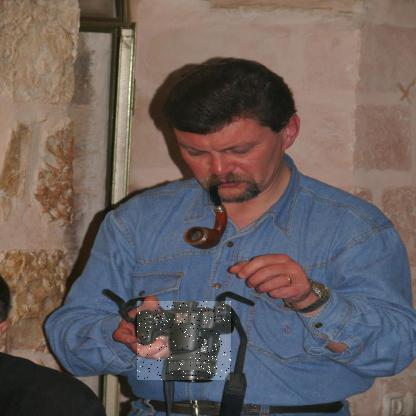Camera: (138, 302, 233, 382)
